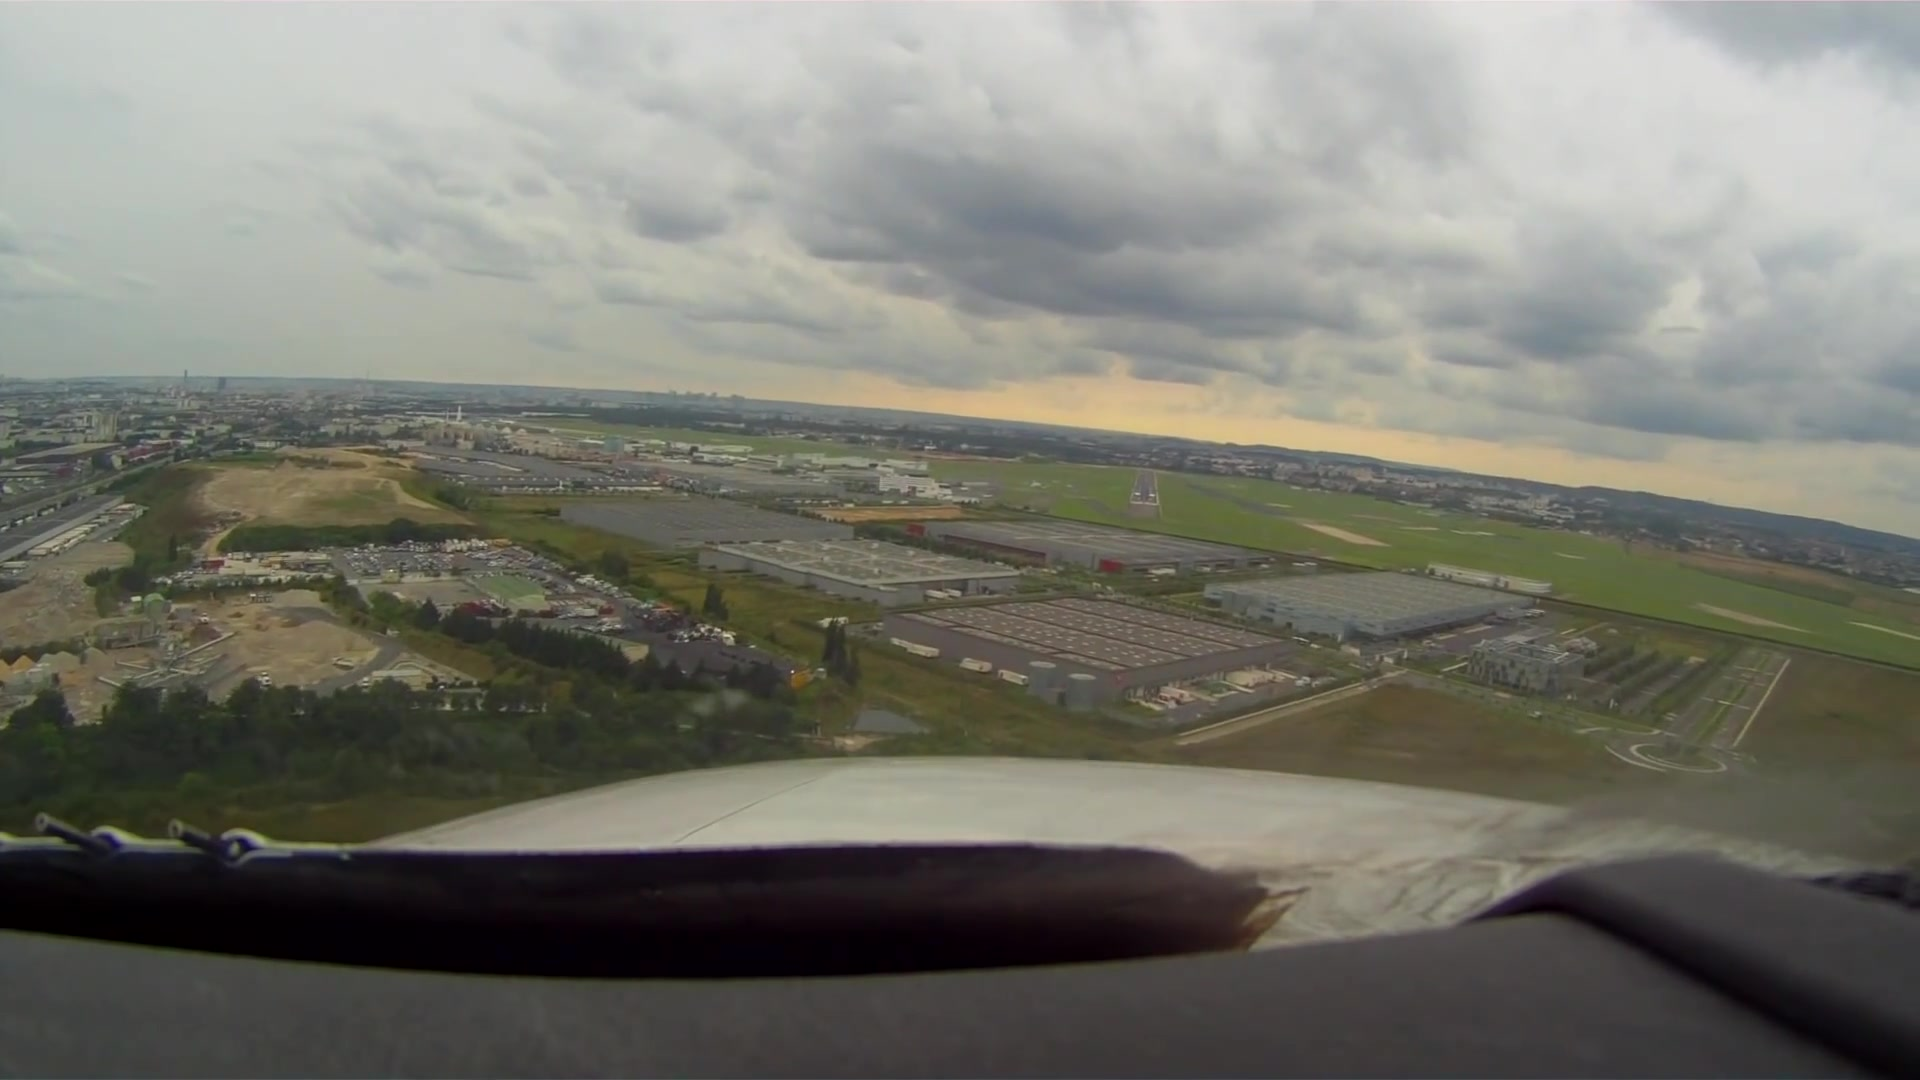runway: (1127, 467, 1159, 508)
